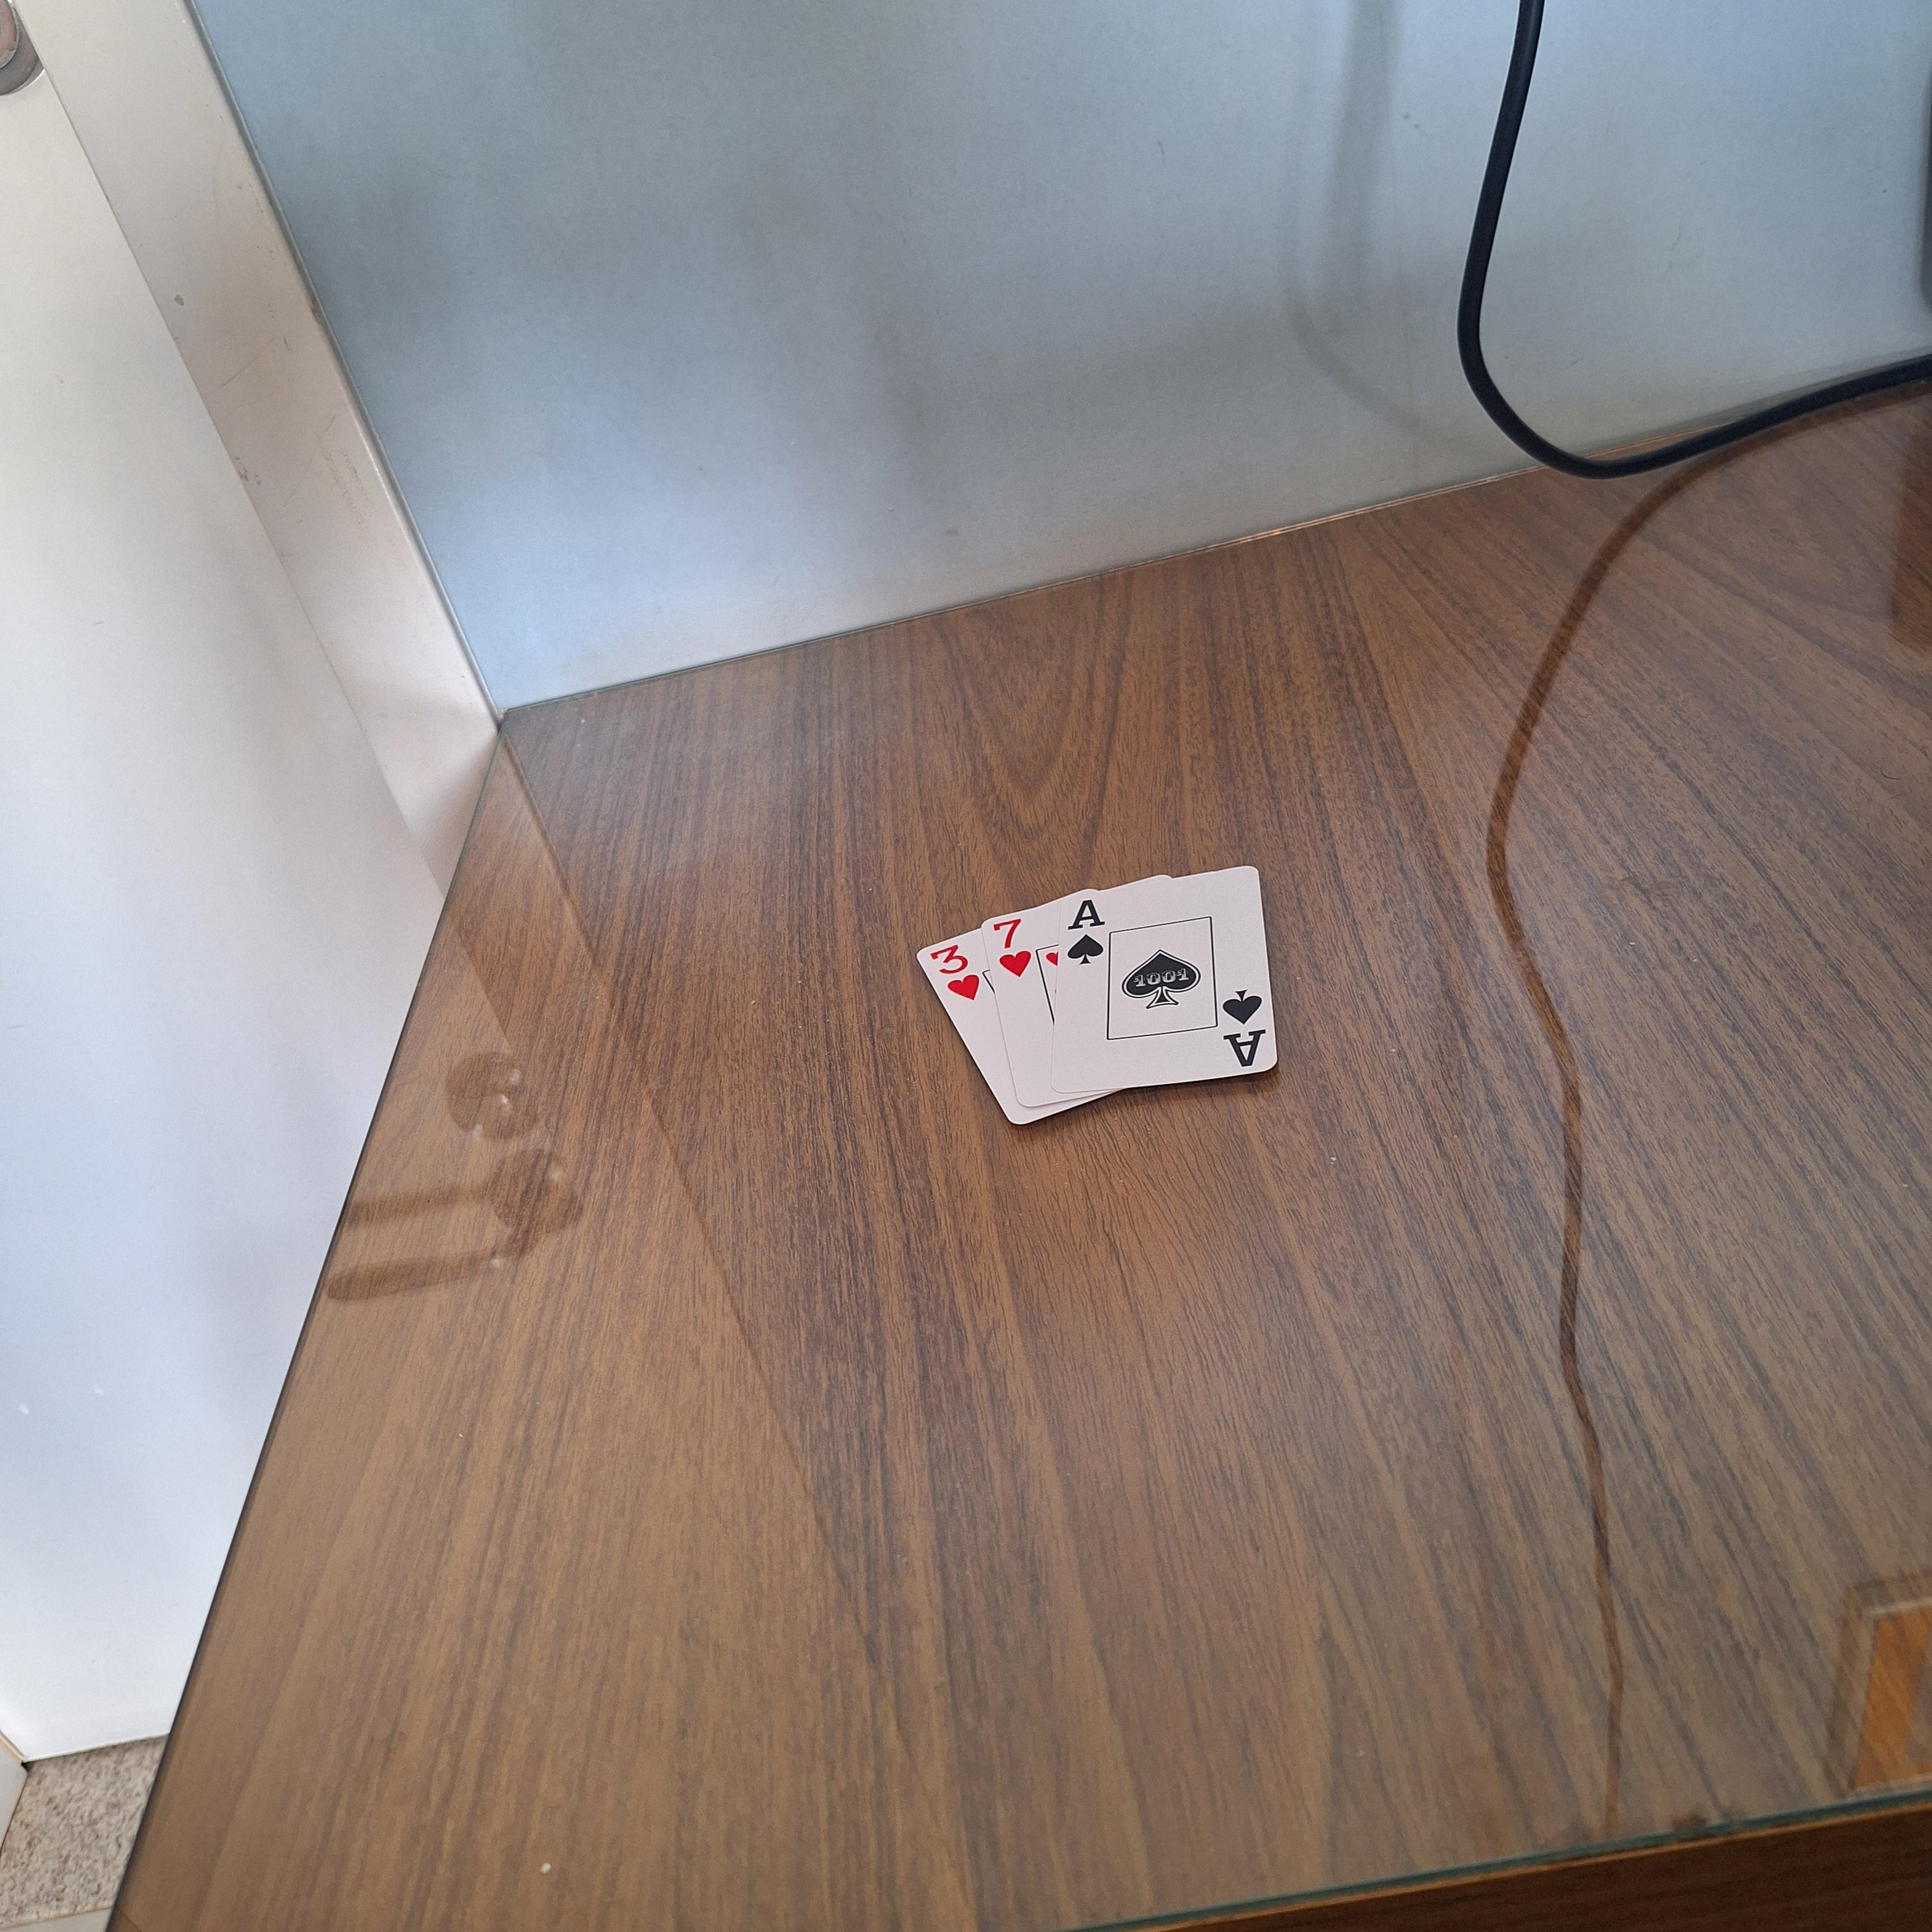3C: (927, 939, 991, 1005)
7C: (984, 913, 1042, 985)
AE: (1217, 984, 1270, 1070), (1060, 893, 1111, 970)
